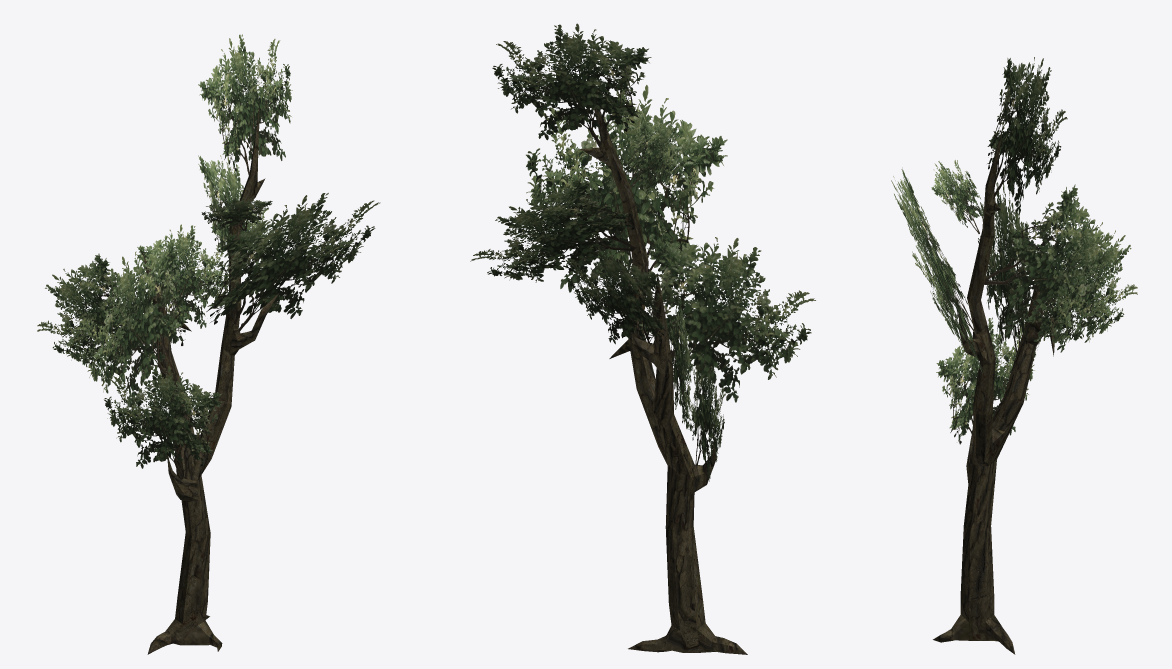
File: Tree.Healthy_4.fbx
The picture shows the model from 3 angles, left to right: view 1: azimuth 30°, elevation 25°; view 2: azimuth 150°, elevation 25°; view 3: azimuth 270°, elevation 25°; orthographic projection. The views are drawn at different scales.
Visible parts, largest first — view 1: Tree.Healthy_4; view 2: Tree.Healthy_4; view 3: Tree.Healthy_4.
Part boxes in pixels (x1,y1,x2,y2): Tree.Healthy_4: (37, 34, 380, 654); Tree.Healthy_4: (470, 23, 815, 654); Tree.Healthy_4: (891, 57, 1137, 654).
Bounding box in the file's own units: 417 × 706 × 287.
